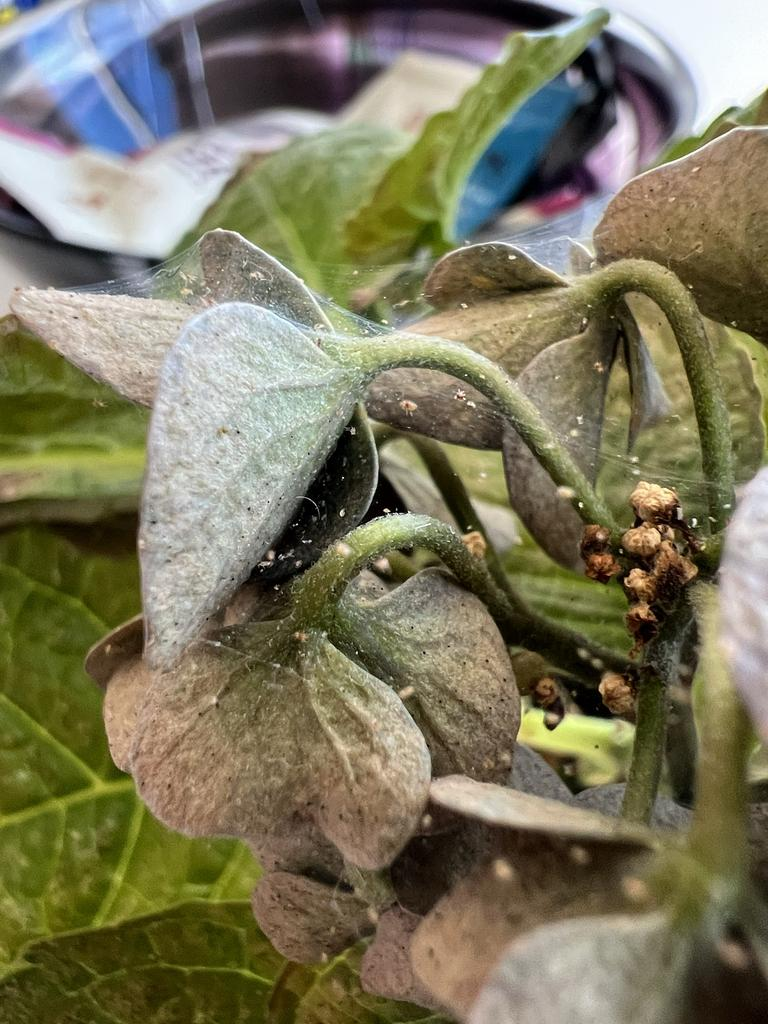tiny_pests: (392, 393, 423, 420), (449, 381, 472, 408)
